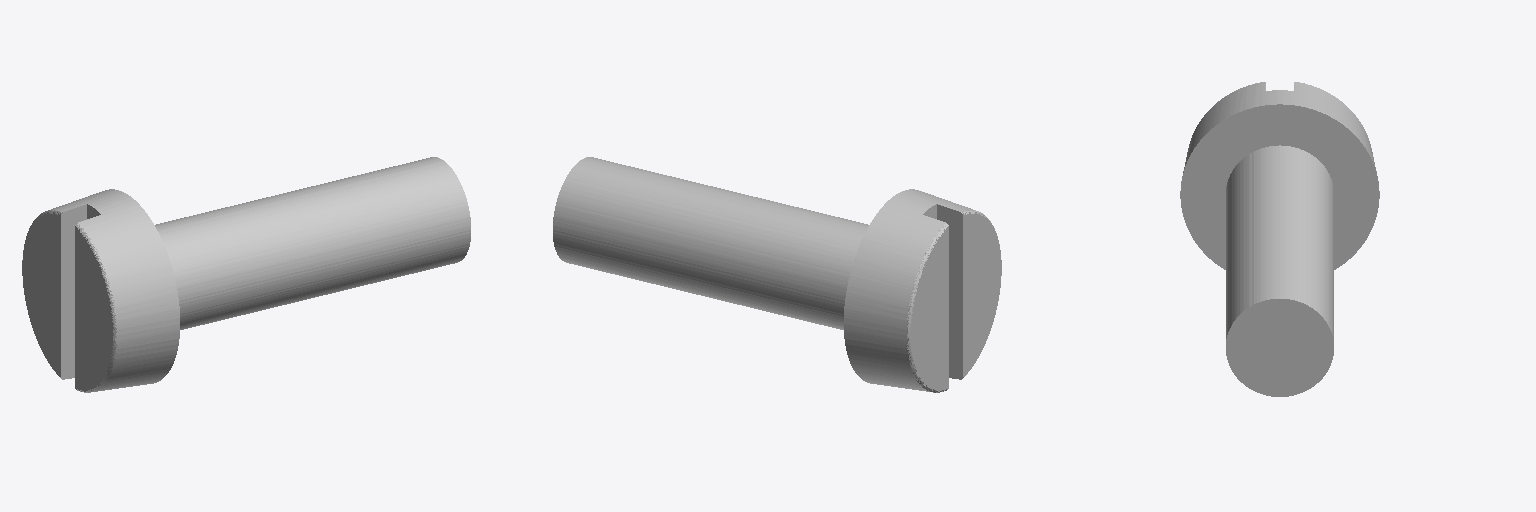
Rendered from Ratchet stop.obj.
3 views of the same model, side by side, from view 1: azimuth 30°, elevation 25°; view 2: azimuth 150°, elevation 25°; view 3: azimuth 270°, elevation 25° (orthographic).
Visible parts, largest first — view 1: Slot; view 2: Slot; view 3: Slot.
Part boxes in pixels (left/top/right/bottom): Slot: left=22, top=157, right=470, bottom=392; Slot: left=553, top=157, right=1001, bottom=392; Slot: left=1180, top=82, right=1379, bottom=396.
Size of the model in its own units: 0.4724 by 0.2166 by 0.2166.